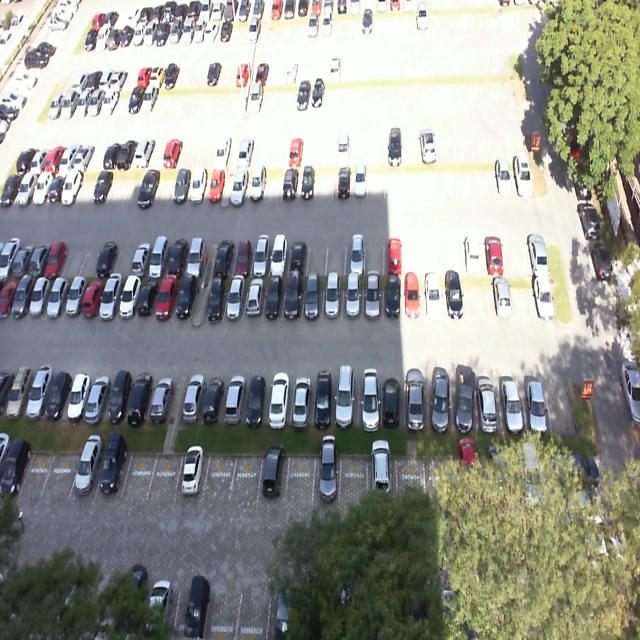space-empty: (123, 442, 158, 502), (148, 444, 182, 500), (43, 445, 78, 499), (231, 451, 264, 504), (545, 370, 576, 426), (204, 448, 238, 498), (21, 446, 55, 494), (288, 449, 314, 504), (443, 226, 466, 273), (113, 238, 140, 276), (509, 276, 532, 320), (155, 165, 178, 208), (467, 275, 488, 322), (505, 227, 526, 272), (425, 229, 445, 276), (404, 226, 424, 272), (307, 234, 328, 273), (324, 235, 344, 273), (364, 235, 383, 273), (458, 162, 478, 198), (478, 158, 496, 198), (267, 166, 284, 207), (368, 162, 386, 200), (422, 163, 440, 198), (388, 162, 404, 200), (403, 163, 420, 198), (440, 162, 458, 195), (316, 166, 332, 200)
space-occupied: (94, 445, 132, 502), (71, 446, 106, 501), (499, 373, 528, 432), (175, 445, 208, 496), (312, 451, 342, 507), (223, 370, 254, 424), (259, 448, 290, 500), (523, 371, 550, 428), (64, 367, 93, 420), (476, 372, 502, 429), (117, 271, 146, 322), (222, 272, 249, 326), (83, 371, 112, 421), (106, 371, 134, 422), (452, 374, 479, 426), (136, 267, 162, 320), (428, 375, 454, 428), (127, 370, 154, 420), (312, 372, 336, 428), (268, 373, 294, 424), (154, 274, 180, 324), (203, 370, 229, 420), (246, 372, 272, 422), (262, 270, 286, 324), (530, 270, 557, 318), (148, 374, 175, 422), (359, 371, 382, 426), (174, 272, 198, 324), (382, 371, 405, 424), (101, 270, 125, 320), (241, 275, 265, 325), (335, 373, 359, 423), (290, 372, 313, 424), (405, 374, 428, 426), (486, 273, 511, 320), (483, 227, 507, 275), (181, 373, 206, 418), (205, 273, 225, 327), (130, 236, 156, 276), (303, 276, 324, 324), (525, 229, 548, 272), (444, 277, 467, 320), (148, 237, 172, 278), (188, 164, 211, 206), (363, 276, 384, 322), (282, 276, 302, 324), (167, 238, 192, 276), (322, 277, 343, 322), (188, 239, 212, 278), (139, 165, 162, 205), (511, 156, 534, 196), (287, 234, 310, 274), (404, 274, 424, 320), (426, 276, 446, 322), (172, 165, 193, 208), (382, 231, 404, 272), (229, 238, 252, 277), (204, 166, 226, 206), (464, 228, 484, 272), (231, 164, 252, 205), (213, 239, 236, 276), (384, 276, 402, 322), (345, 231, 364, 274), (268, 236, 290, 272), (251, 235, 272, 272), (345, 275, 362, 320), (299, 166, 317, 205), (494, 160, 514, 195), (283, 164, 300, 205), (250, 166, 268, 204), (333, 165, 350, 202), (351, 164, 367, 198)
